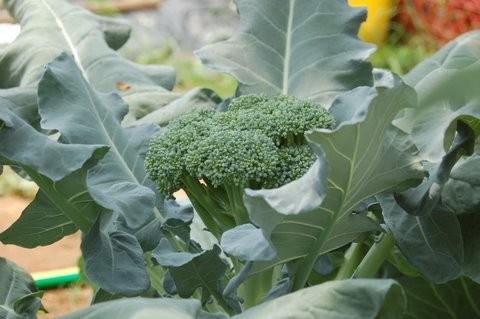broccoli: (146, 92, 331, 212)
